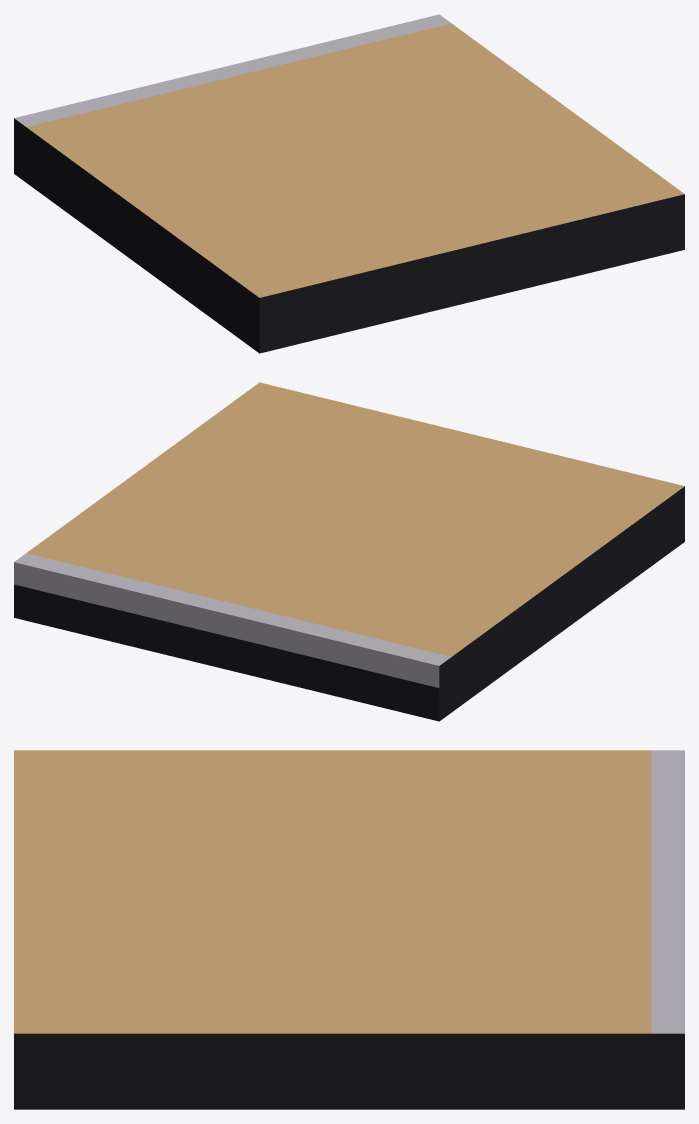
File: ManPad_1.fbx
3 views of the same model, one above another, from view 1: azimuth 30°, elevation 25°; view 2: azimuth 150°, elevation 25°; view 3: azimuth 270°, elevation 25° (orthographic). The views are drawn at different scales.
Visible parts, largest first — view 1: ManPad_1; view 2: ManPad_1; view 3: ManPad_1.
Boxes of the visible parts, left/top/right/bottom form: ManPad_1: left=14, top=14, right=684, bottom=353; ManPad_1: left=14, top=382, right=684, bottom=721; ManPad_1: left=14, top=750, right=684, bottom=1109.
Bounding box in the file's own units: 10 × 1.25 × 10.
